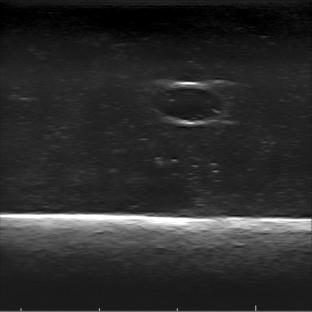vessel: (151, 81, 224, 126)
